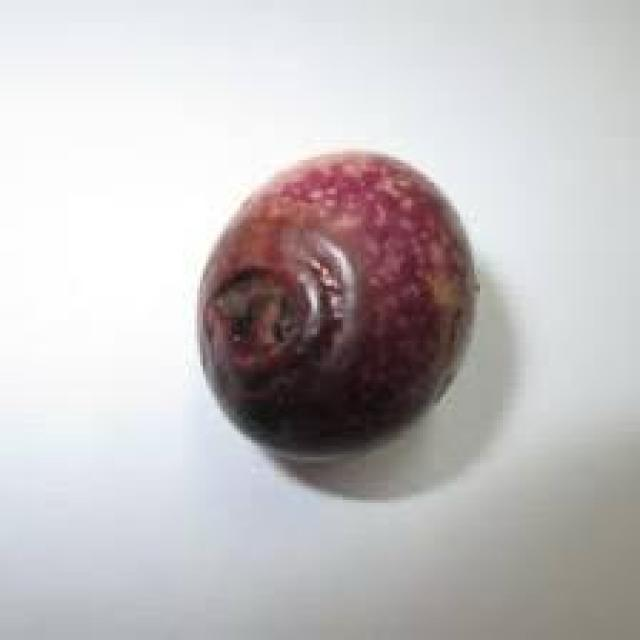Anthracnose: (200, 154, 474, 452)
